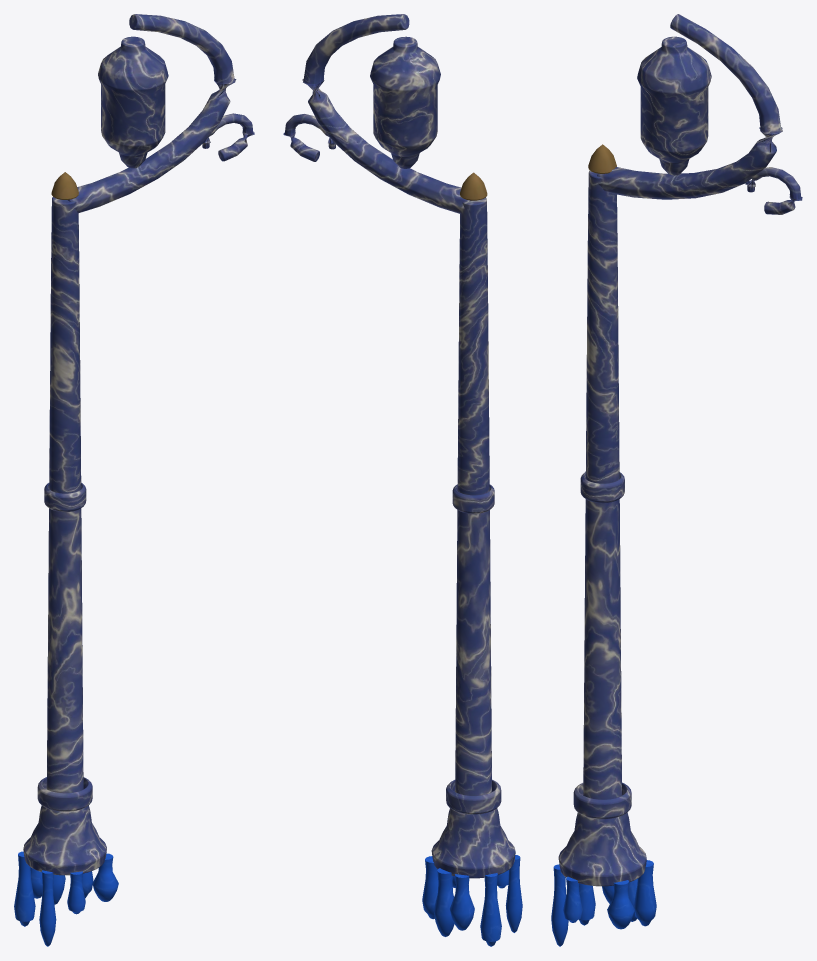
Rendered from lamppost.glb.
3 views of the same model, side by side, from view 1: azimuth 30°, elevation 25°; view 2: azimuth 150°, elevation 25°; view 3: azimuth 330°, elevation 25° (orthographic). The views are drawn at different scales.
Visible parts, largest first — view 1: lamppost; view 2: lamppost; view 3: lamppost.
Part boxes in pixels (bbox=[...]): lamppost: bbox=[14, 14, 254, 946]; lamppost: bbox=[283, 14, 522, 946]; lamppost: bbox=[551, 14, 802, 946].
Size of the model in its own units: 1.22 by 4.6 by 0.4661.
1 material, 1 textured.
